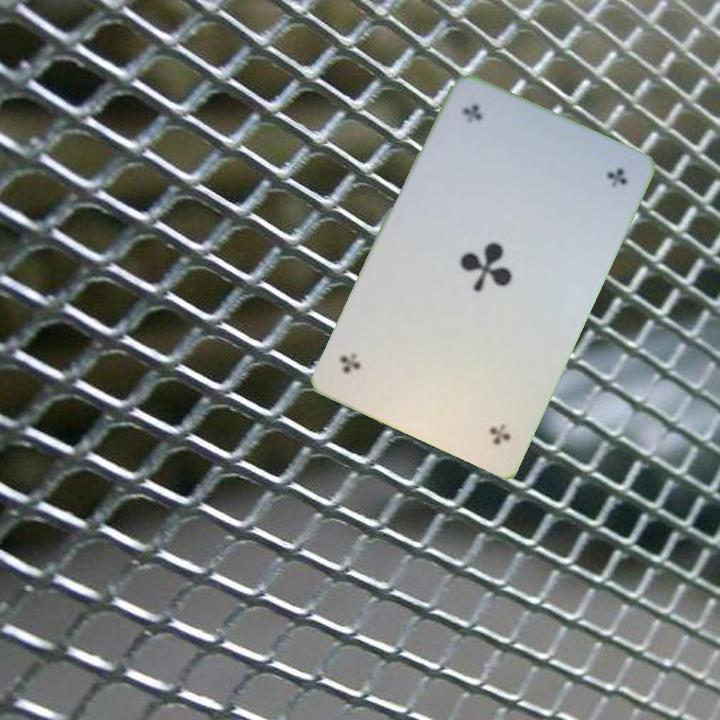c_a.png: (427, 88, 552, 206), (414, 342, 539, 459)
